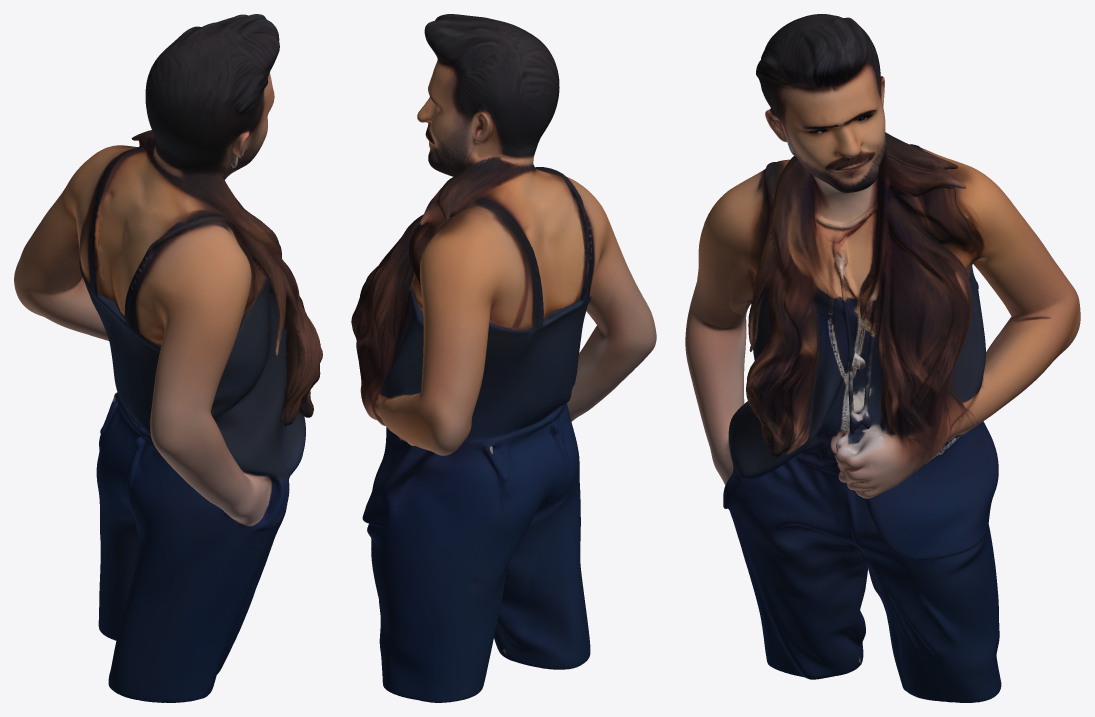
File: tripo_pbr_model_f98d99cf-5dac-_2a01ab24_opt.glb
The picture shows the model from 3 angles, left to right: view 1: azimuth 30°, elevation 25°; view 2: azimuth 150°, elevation 25°; view 3: azimuth 270°, elevation 25°; orthographic projection. The views are drawn at different scales.
Visible parts, largest first — view 1: tripo_node_f98d99cf-5dac-445e-8700-023062b474a9; view 2: tripo_node_f98d99cf-5dac-445e-8700-023062b474a9; view 3: tripo_node_f98d99cf-5dac-445e-8700-023062b474a9.
Part boxes in pixels (<box>): tripo_node_f98d99cf-5dac-445e-8700-023062b474a9: <box>14,14,322,702</box>; tripo_node_f98d99cf-5dac-445e-8700-023062b474a9: <box>351,14,656,702</box>; tripo_node_f98d99cf-5dac-445e-8700-023062b474a9: <box>685,14,1080,702</box>.
Size of the model in its own units: 0.3663 by 1 by 0.5385.
Materials: 1 (1 with a texture image).
